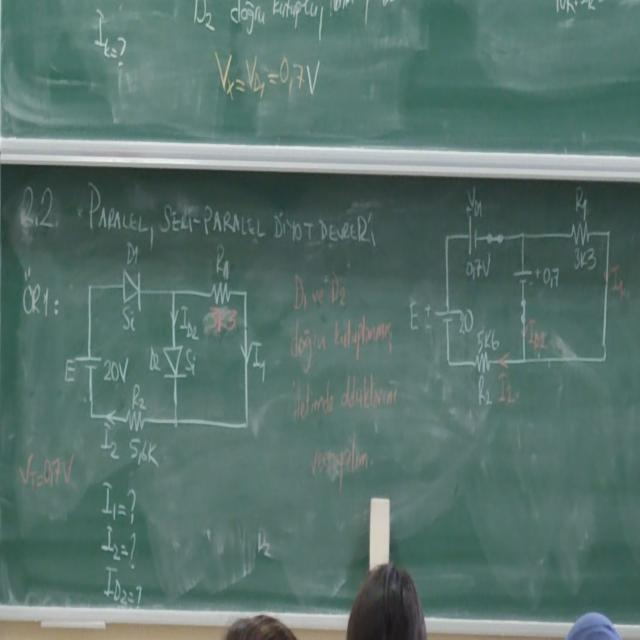image: (408, 178, 630, 418), (63, 243, 274, 472)
math: (212, 45, 326, 109)
text: (80, 176, 379, 261), (288, 266, 401, 477)
